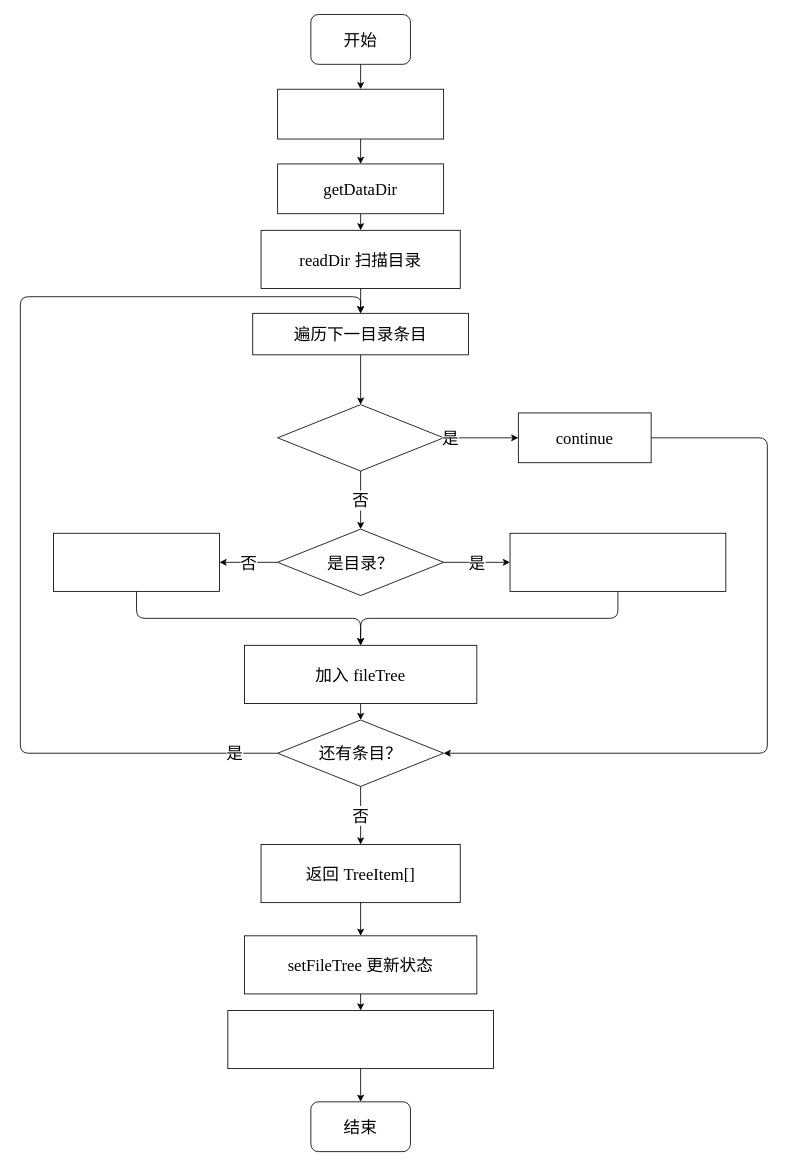
Image size: 789x1166. Some labels were removed from this diagram. Here are the shapes that lost their labels. From the top down, the centre of each, then its label:
point (360, 113): 应用启动
point (360, 437): 是否跳过？
point (136, 561): push 文件名
point (617, 561): 递归 buildFileTree
point (360, 1039): 遍历并递归渲染 Tree
